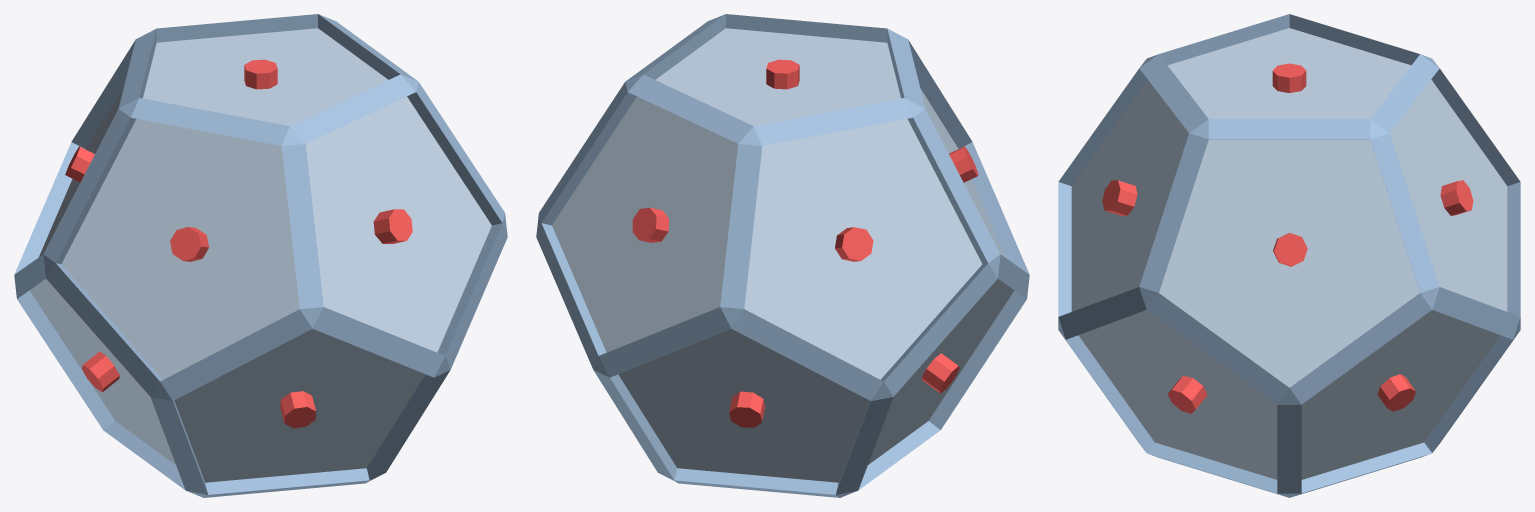
File: Player_Bomb_Shot.fbx
The picture shows the model from 3 angles, left to right: view 1: azimuth 30°, elevation 25°; view 2: azimuth 150°, elevation 25°; view 3: azimuth 270°, elevation 25°; orthographic projection. The views are drawn at different scales.
Visible parts, largest first — view 1: Bomb; view 2: Bomb; view 3: Bomb.
Part boxes in pixels (x1,y1,x2,y2): Bomb: [14, 14, 507, 497]; Bomb: [536, 14, 1029, 497]; Bomb: [1058, 14, 1520, 497].
Size of the model in its own units: 158 by 134 by 150.
